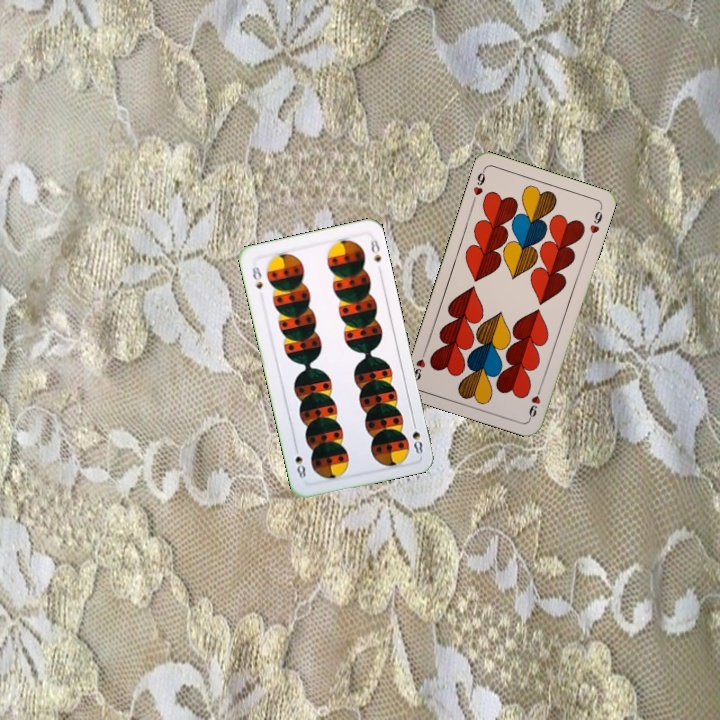H9: (469, 165, 488, 205), (525, 382, 544, 422)
S8: (408, 416, 425, 457), (248, 260, 265, 292)
